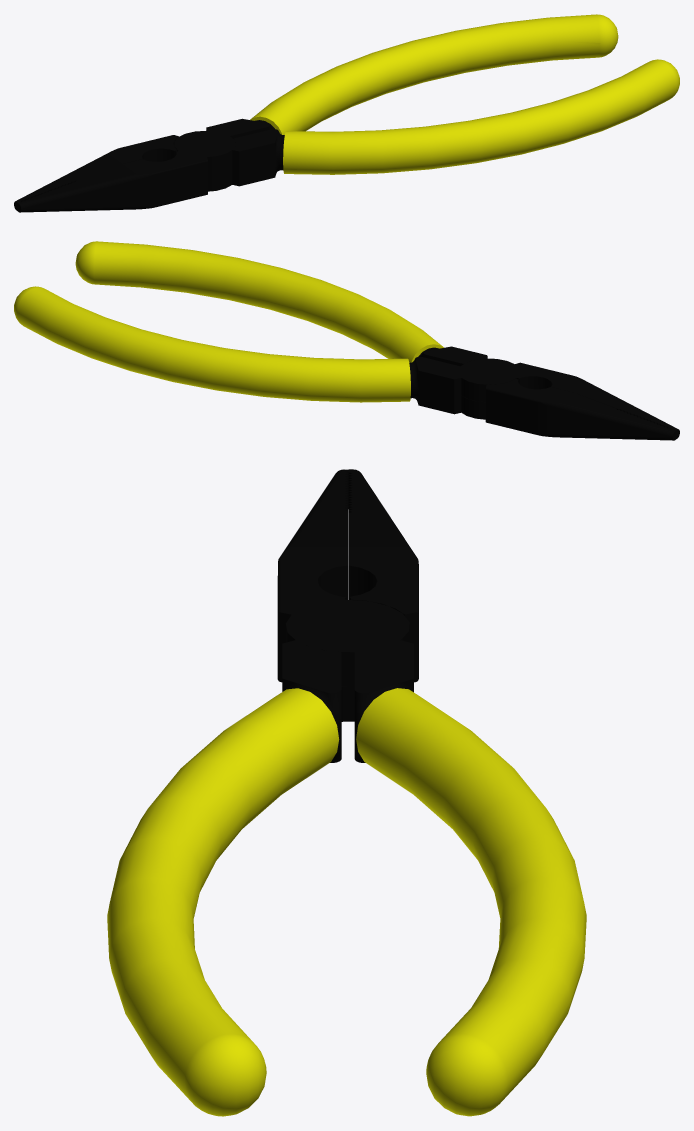
Rendered from Круглогубцы.fbx.
3 renders of one model, top to bottom at view 1: azimuth 30°, elevation 25°; view 2: azimuth 150°, elevation 25°; view 3: azimuth 270°, elevation 25°, orthographic. The views are drawn at different scales.
Parts seen in each view (by area): view 1: Left_part, Right_part; view 2: Left_part, Right_part; view 3: Left_part, Right_part.
Part boxes in pixels (x1,y1,x2,y2): Left_part: [17, 14, 618, 212]; Right_part: [14, 59, 679, 210]; Left_part: [14, 286, 679, 438]; Right_part: [75, 241, 676, 440]; Left_part: [277, 469, 586, 1116]; Right_part: [107, 469, 418, 1116].
Size of the model in its own units: 15.1 by 0.8987 by 4.99.
